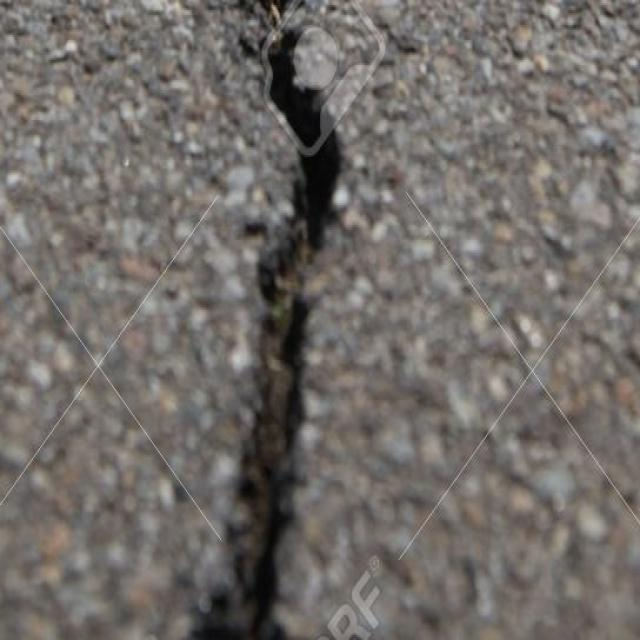crack: (188, 1, 346, 638)
